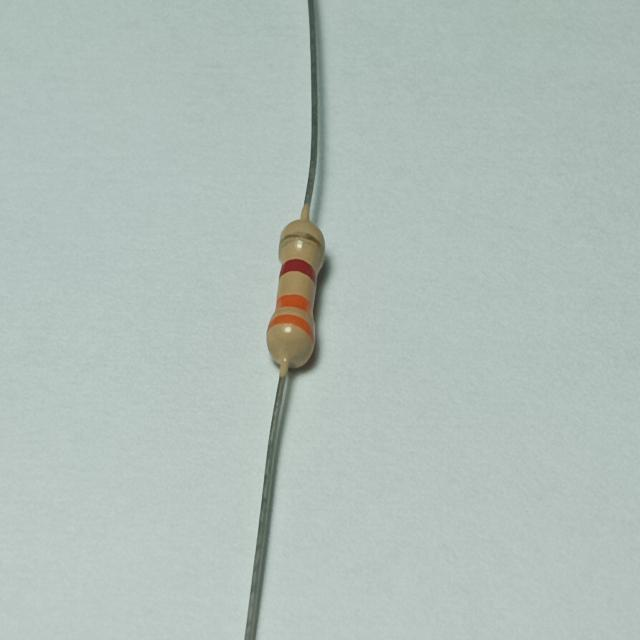3.3k ohms: (243, 205, 343, 379)
